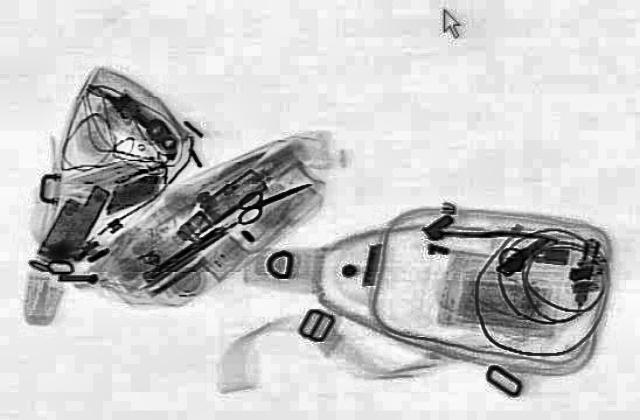Scissors: (218, 172, 322, 224)
